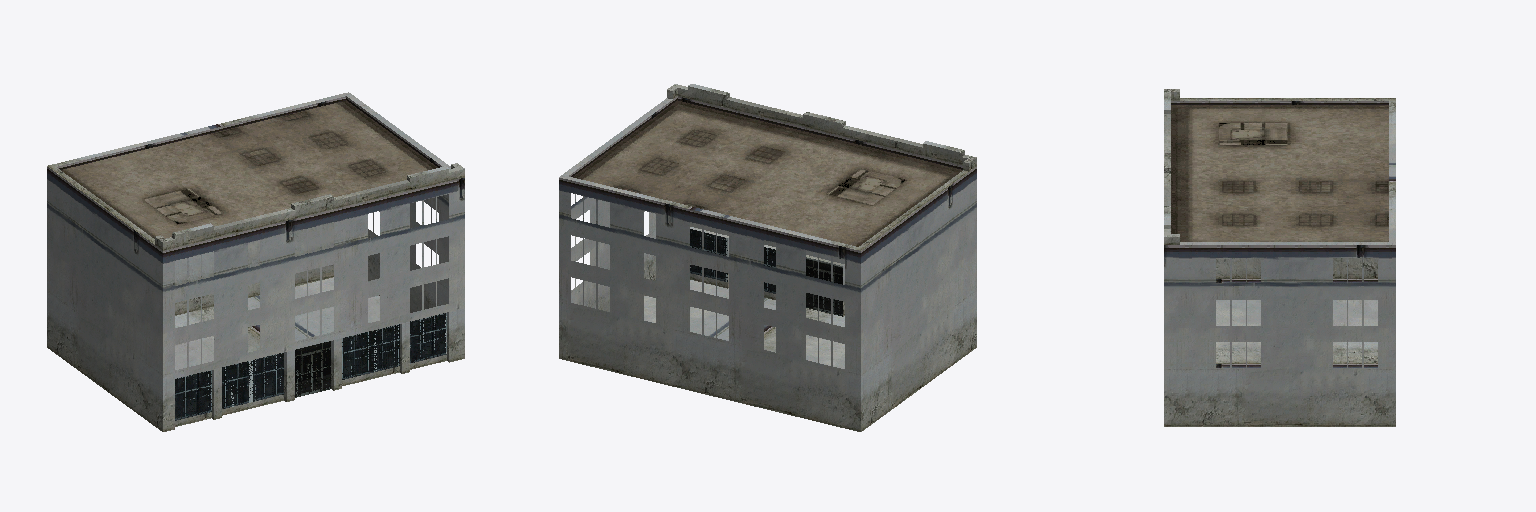
The picture shows the model from 3 angles: view 1: azimuth 30°, elevation 25°; view 2: azimuth 150°, elevation 25°; view 3: azimuth 270°, elevation 25°; orthographic projection.
Visible parts, largest first — view 1: SketchUp_ID101, SketchUp.005_ID151, SketchUp.004_ID143, SketchUp.002_ID127, SketchUp.001_ID114, SketchUp.003_ID135, SketchUp.006_ID164; view 2: SketchUp_ID101, SketchUp.005_ID151, SketchUp.001_ID114, SketchUp.006_ID164; view 3: SketchUp_ID101, SketchUp.005_ID151.
Part boxes in pixels (bbox=[...]): SketchUp_ID101: bbox=[47, 92, 464, 431]; SketchUp.005_ID151: bbox=[61, 100, 437, 238]; SketchUp.004_ID143: bbox=[222, 352, 283, 408]; SketchUp.002_ID127: bbox=[342, 324, 399, 379]; SketchUp.001_ID114: bbox=[295, 341, 330, 397]; SketchUp.003_ID135: bbox=[175, 370, 211, 420]; SketchUp.006_ID164: bbox=[410, 313, 446, 363]; SketchUp_ID101: bbox=[559, 84, 976, 431]; SketchUp.005_ID151: bbox=[573, 100, 962, 246]; SketchUp.001_ID114: bbox=[806, 257, 842, 316]; SketchUp.006_ID164: bbox=[690, 229, 727, 281]; SketchUp_ID101: bbox=[1164, 89, 1395, 426]; SketchUp.005_ID151: bbox=[1171, 105, 1388, 241].
Bounding box in the file's own units: 22.86 × 14.02 × 15.24.
4 materials, 4 textured.